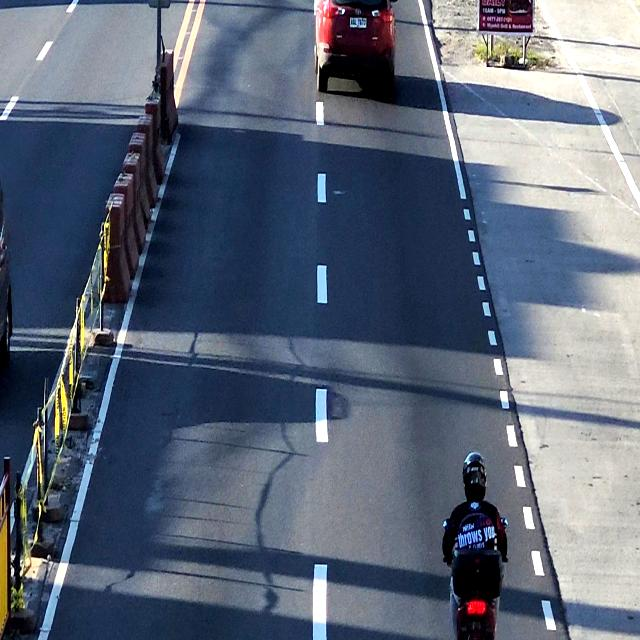Car: (313, 0, 396, 94)
License-Plate: (348, 13, 368, 30)
Motorcycle: (440, 453, 510, 640)
